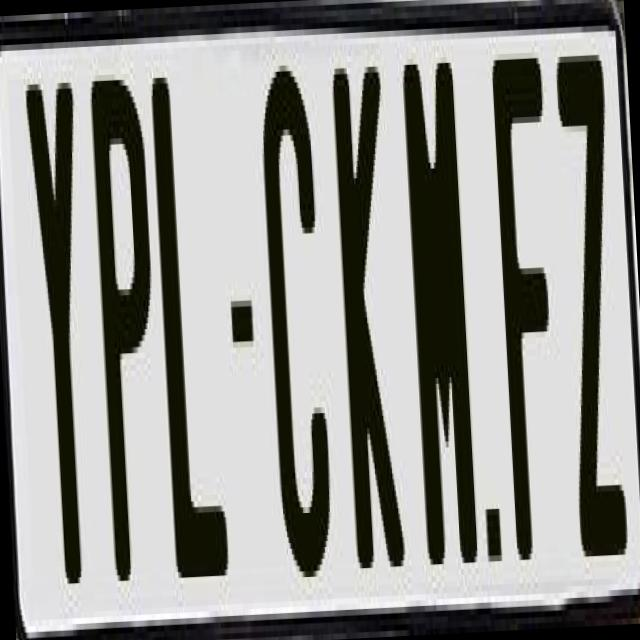C: (256, 52, 341, 596)
F: (492, 58, 570, 589)
K: (332, 49, 406, 586)
L: (148, 63, 236, 590)
M: (402, 62, 483, 582)
P: (85, 79, 168, 582)
Y: (24, 64, 108, 590)
Z: (555, 43, 628, 574)
